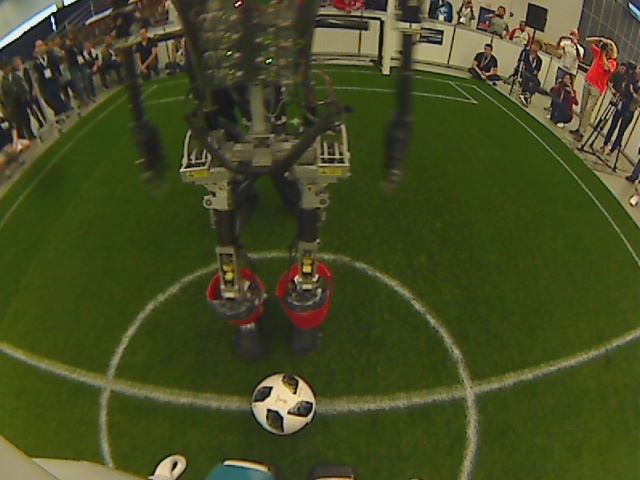ball: (251, 369, 321, 438)
